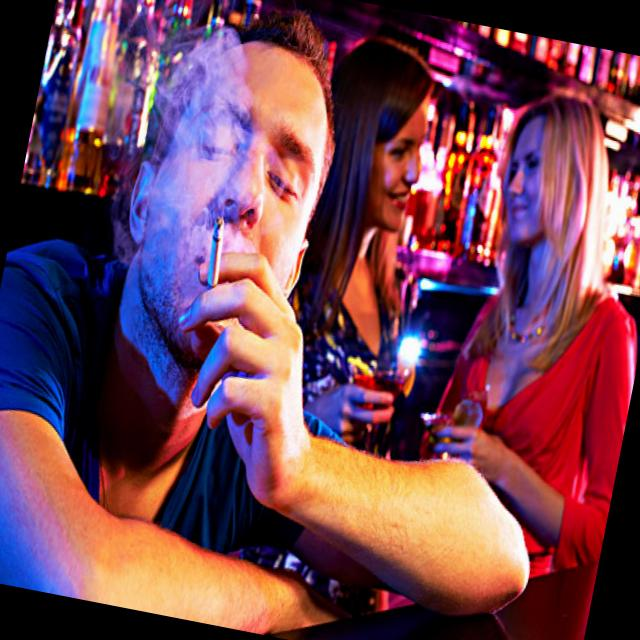smoke: (198, 212, 230, 294)
